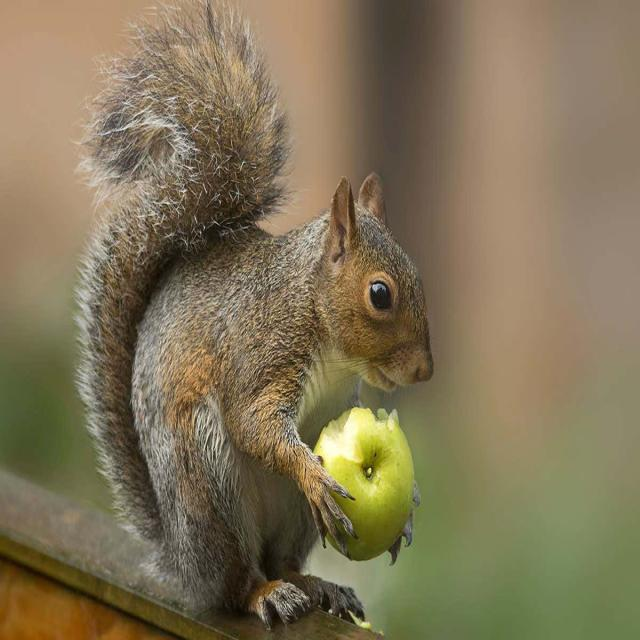Squirrel: (74, 23, 430, 611)
